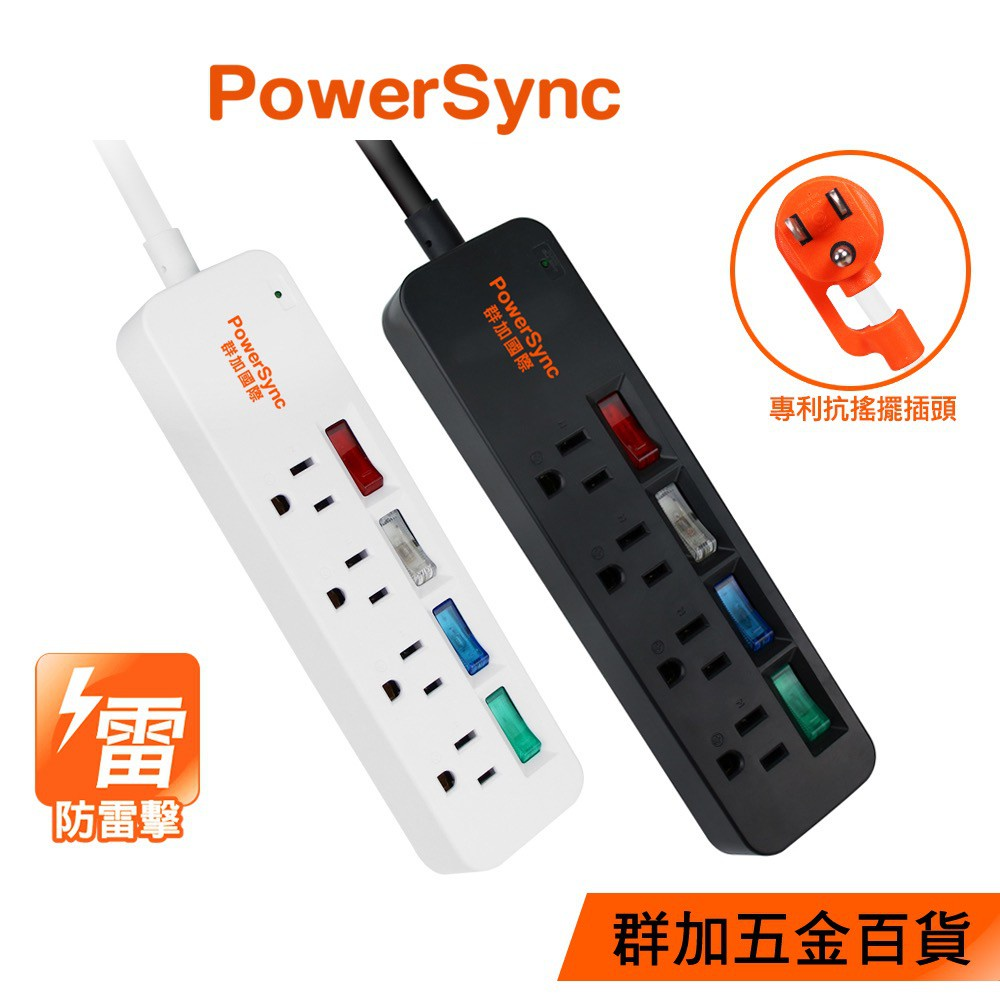socket: (380, 194, 876, 854), (120, 225, 584, 876)
